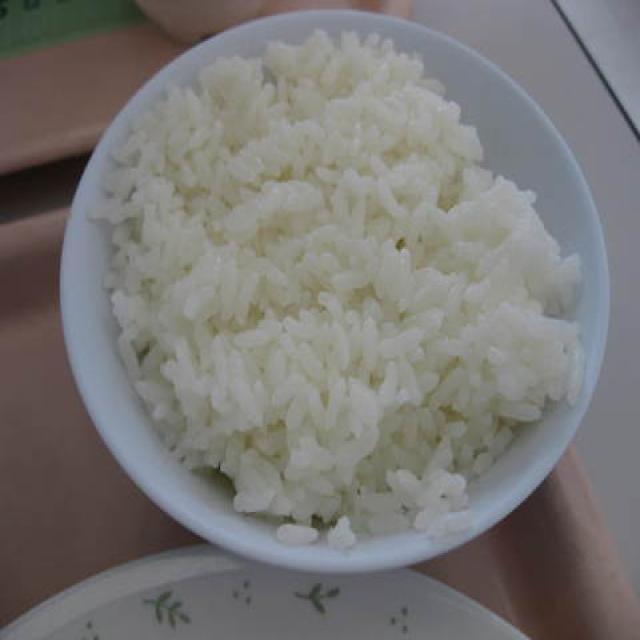Rice: (101, 21, 564, 514)
